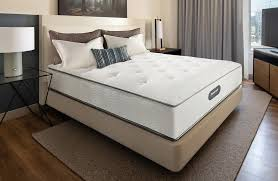bed-matress: (46, 50, 243, 139)
